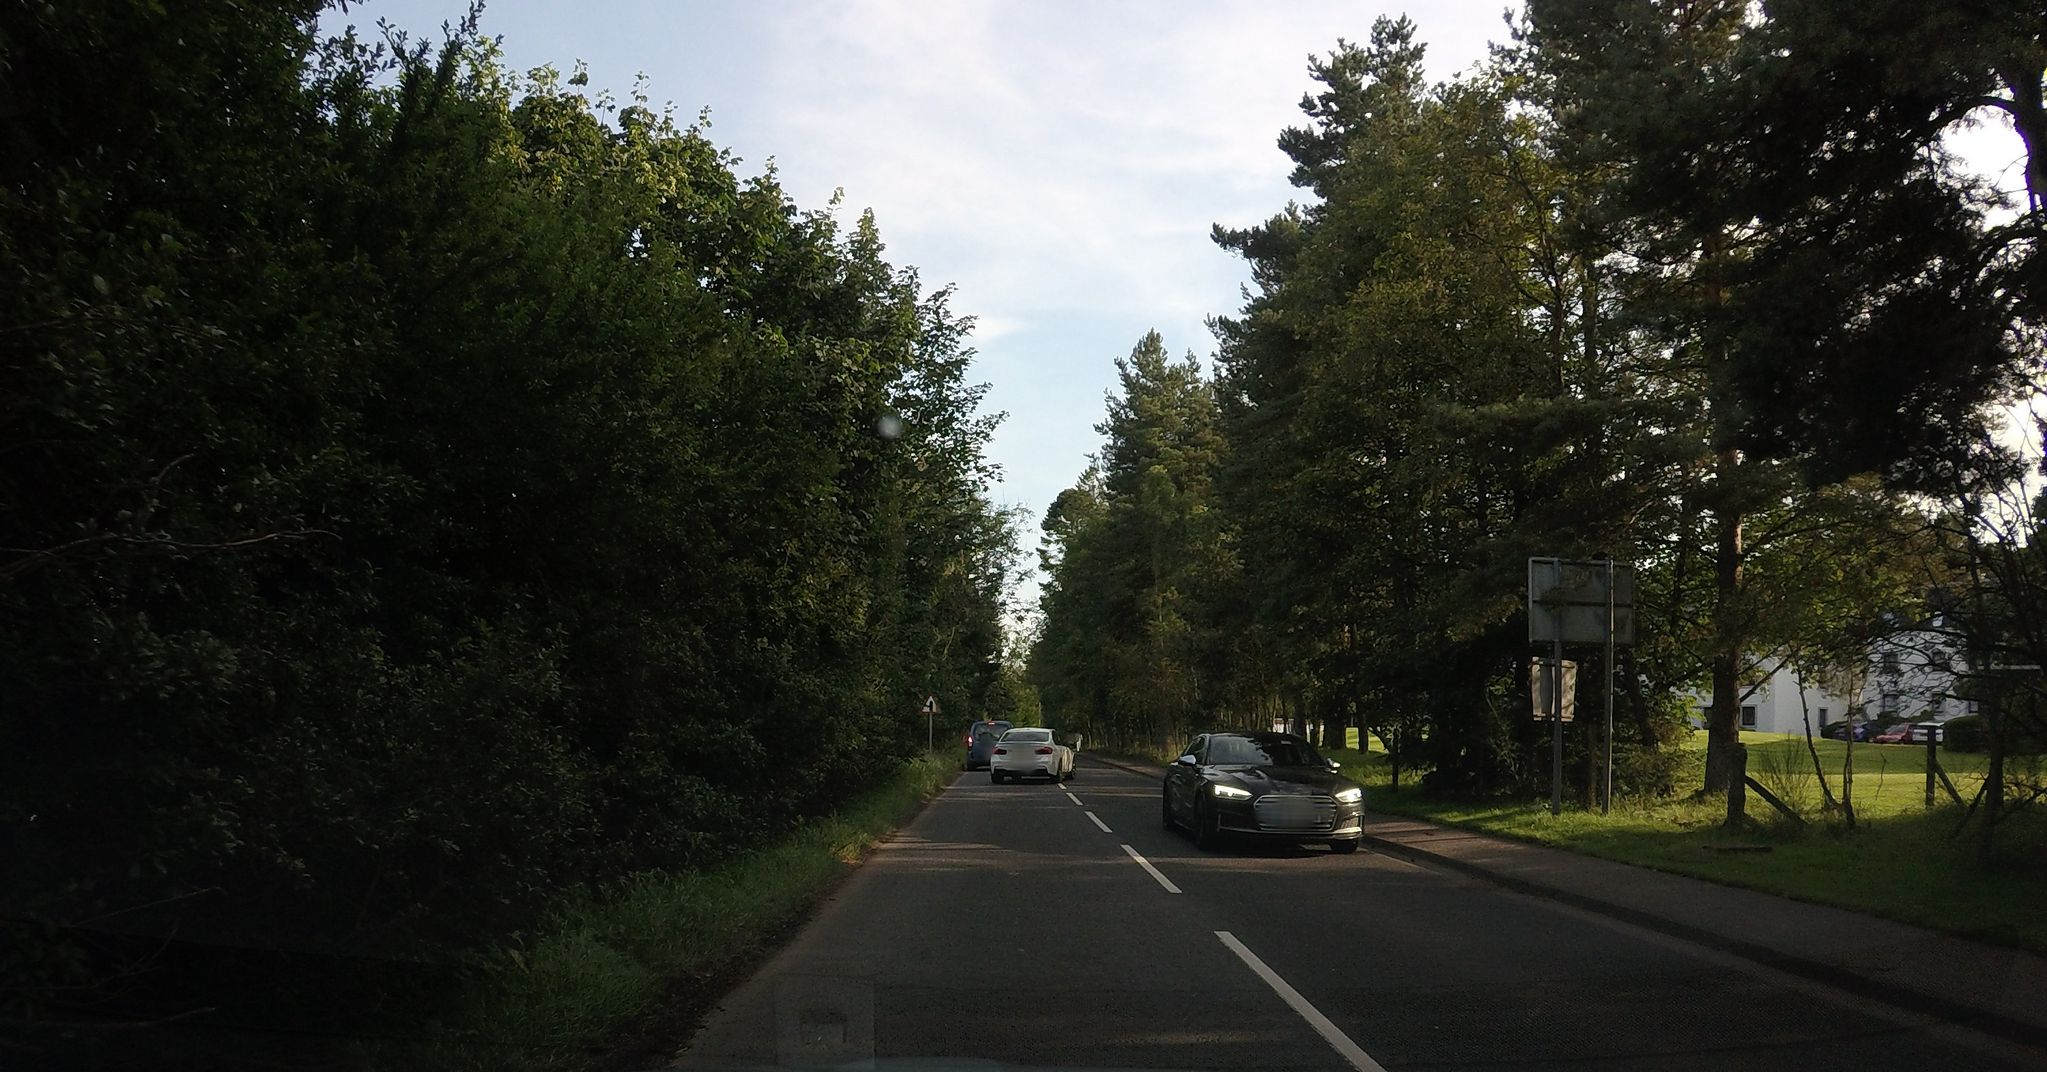car: (1160, 731, 1367, 853), (990, 727, 1076, 782), (965, 719, 1015, 770)
